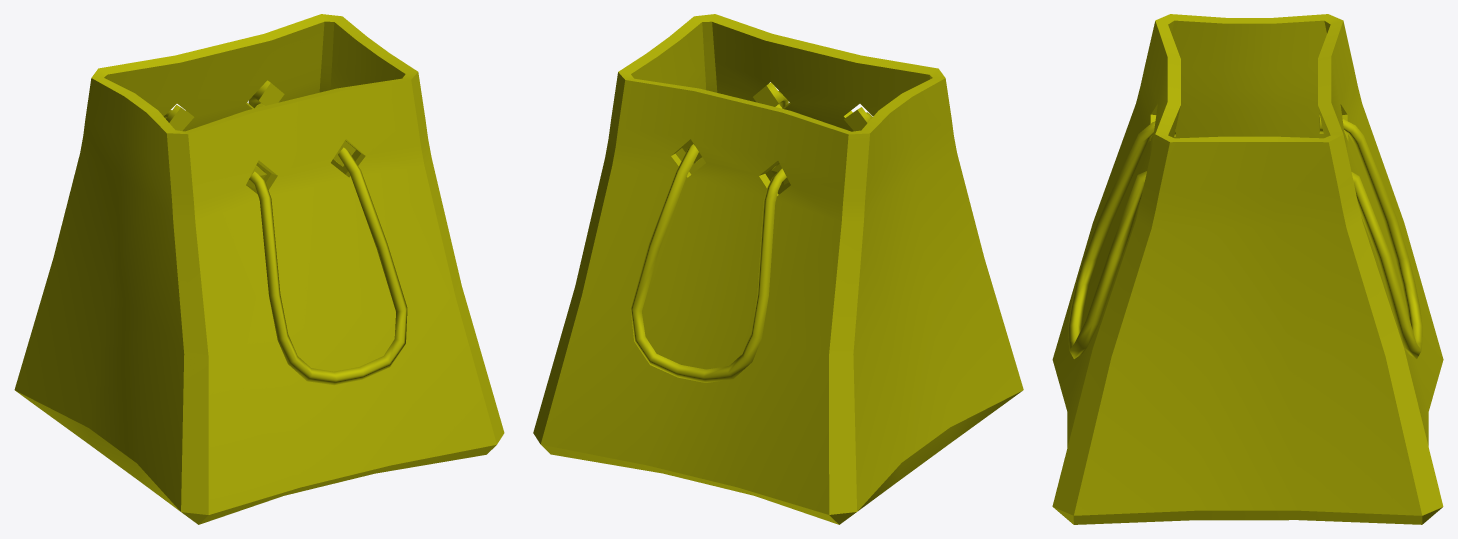
The model's file is market_pack.glb.
3 views of the same model, side by side, from view 1: azimuth 30°, elevation 25°; view 2: azimuth 150°, elevation 25°; view 3: azimuth 270°, elevation 25° (orthographic). The views are drawn at different scales.
Parts seen in each view (by area): view 1: market_pack; view 2: market_pack; view 3: market_pack.
Boxes of the visible parts, <box> form: market_pack: <box>14,14,504,524</box>; market_pack: <box>533,14,1023,524</box>; market_pack: <box>1052,14,1443,524</box>.
Size of the model in its own units: 0.881 by 0.9372 by 0.8813.
Materials: 1 (1 with a texture image).
